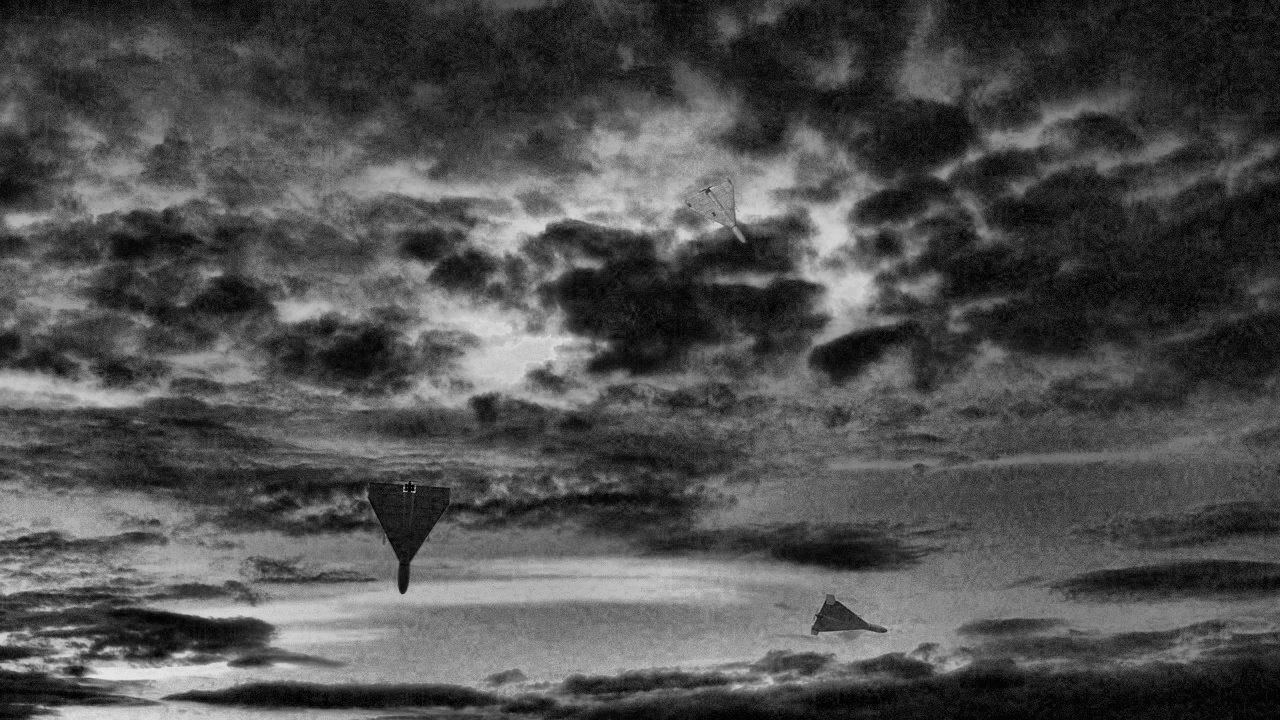shahed: (366, 471, 460, 596), (686, 174, 760, 248), (804, 594, 892, 642)
